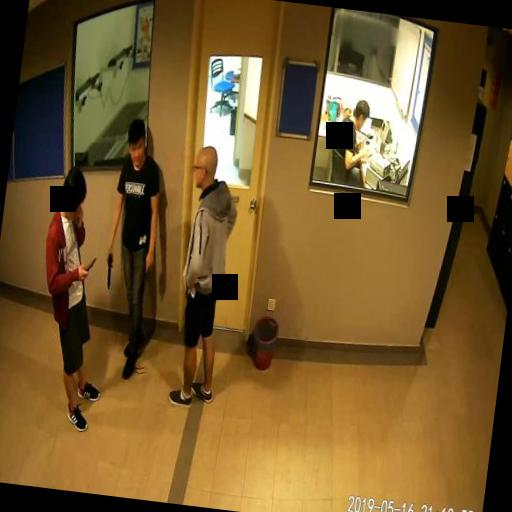Handgun: (102, 248, 114, 288)
